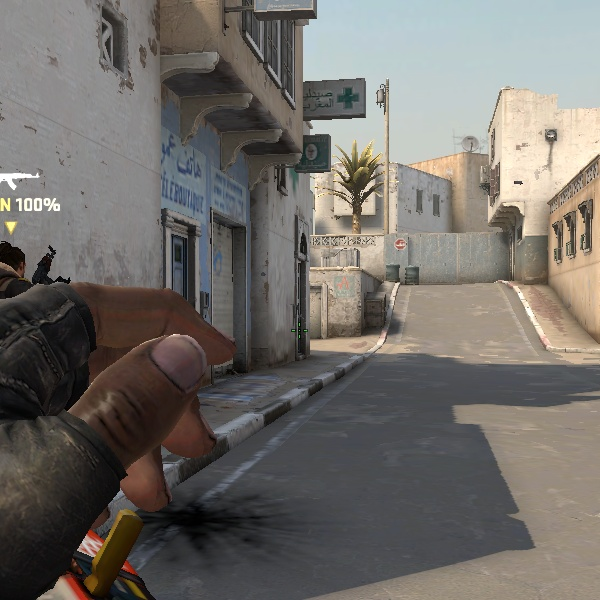ct_head: (0, 232, 54, 302)
